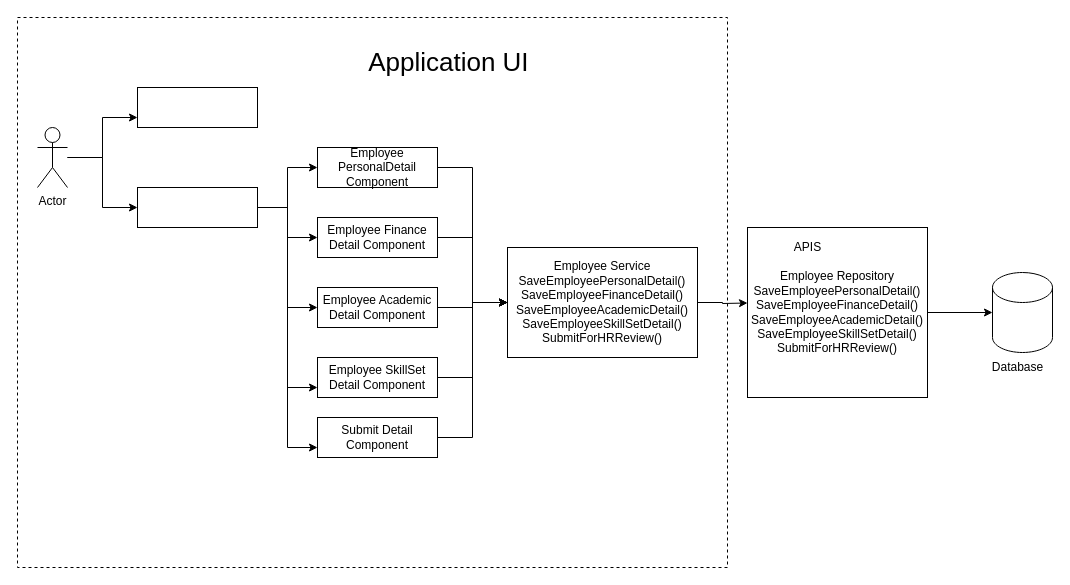
Image size: 1070x585. Some labels were removed from this diagram. The centre of each missing label's shape, as x and y in pixels:
"Login Component" goes at (x=197, y=107).
"New Joinee employee Form" goes at (x=197, y=207).
